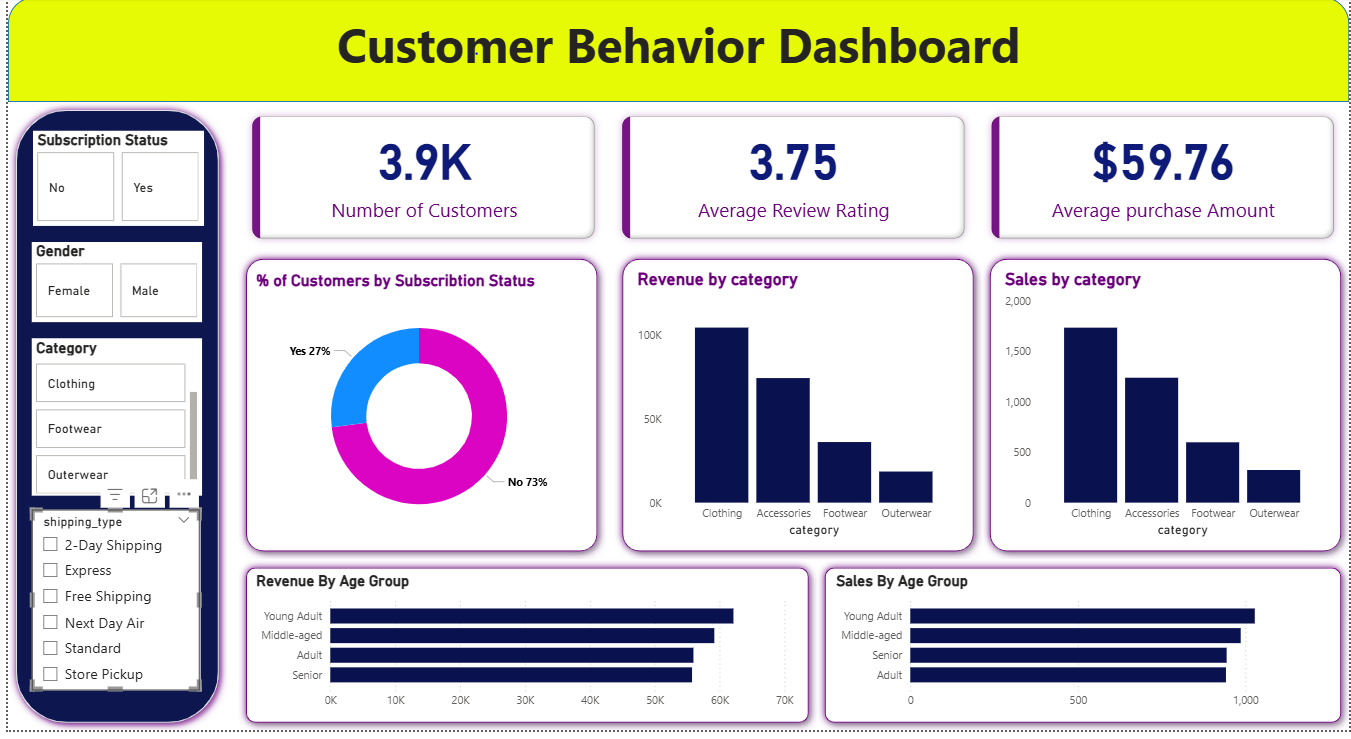

What the dashboard file says about the page in this screenshot:
{"tool":"powerbi","page":{"name":"Page 1","canvas":[1500,820],"ordinal":0},"visuals":[{"type":"cardVisual","fields":{"Data":["customer.Number of Customers","customer.Average Review Rating","customer.Average purchase Amount"]},"box":[257.1,117.4,1242.3,169.1],"z":0},{"type":"shape","box":[0,0,1499.4,117.4],"z":1000},{"type":"textbox","box":[0,11.2,1499.4,106.2],"z":2000},{"type":"shape","box":[257.1,283.7,410.8,345.2],"z":3000},{"type":"donutChart","title":"% of Customers by Subscribtion Status","fields":{"Category":["customer.subscription_status"],"Y":["CountNonNull(customer.customer_id)"]},"box":[272.5,306,374.5,304.6],"z":4000},{"type":"shape","box":[677.7,283.7,410.8,345.2],"z":5000},{"type":"shape","box":[1088.6,283.7,410.8,345.2],"z":6000},{"type":"clusteredColumnChart","title":"Revenue by category","fields":{"Y":["Sum(customer.purchase_amount)"],"Category":["customer.category"]},"box":[698.7,304.6,368.9,304.6],"z":7000},{"type":"clusteredColumnChart","title":"Sales by category","fields":{"Y":["CountNonNull(customer.customer_id)"],"Category":["customer.category"]},"box":[1109.5,304.6,368.9,304.6],"z":8000},{"type":"shape","box":[0,117.4,244.5,702.9],"z":9000},{"type":"advancedSlicerVisual","title":"Subscription Status","fields":{"Values":["customer.subscription_status"]},"box":[27.9,149.5,191.4,106.2],"z":10000},{"type":"advancedSlicerVisual","title":"Gender","fields":{"Values":["customer.gender"]},"box":[26.6,273.9,190,89.4],"z":11000},{"type":"advancedSlicerVisual","title":"Category","fields":{"Values":["customer.category"]},"box":[26.6,381.5,190,176.1],"z":12000},{"type":"slicer","fields":{"Values":["customer.shipping_type"]},"box":[26.6,572.9,188.7,202.6],"z":13000},{"type":"shape","box":[257.1,628.8,647,191.4],"z":14000},{"type":"shape","box":[904.1,628.8,595.3,191.4],"z":15000},{"type":"clusteredBarChart","title":"Revenue By Age Group","fields":{"Y":["Sum(customer.purchase_amount)"],"Category":["customer.age_group"]},"box":[272.5,642.8,610.7,162.1],"z":16000},{"type":"clusteredBarChart","title":"Sales By Age Group","fields":{"Y":["CountNonNull(customer.customer_id)"],"Category":["customer.age_group"]},"box":[920.9,642.8,557.6,162.1],"z":17000}]}

Visuals, with their boxes in screenshot pixels (x1, y1, x2, y2), scaled from the page's 1500x820 canvas onto the 1351x739 screenshot:
cardVisual - customer.Number of Customers x customer.Average Review Rating: rect(232, 106, 1350, 258)
shape: rect(0, 0, 1350, 106)
textbox: rect(0, 10, 1350, 106)
shape: rect(232, 256, 602, 567)
"% of Customers by Subscribtion Status" donutChart: rect(245, 276, 583, 550)
shape: rect(610, 256, 980, 567)
shape: rect(980, 256, 1350, 567)
"Revenue by category" clusteredColumnChart: rect(629, 275, 962, 549)
"Sales by category" clusteredColumnChart: rect(999, 275, 1332, 549)
shape: rect(0, 106, 220, 738)
"Subscription Status" advancedSlicerVisual: rect(25, 135, 198, 230)
"Gender" advancedSlicerVisual: rect(24, 247, 195, 327)
"Category" advancedSlicerVisual: rect(24, 344, 195, 503)
slicer - customer.shipping_type: rect(24, 516, 194, 699)
shape: rect(232, 567, 814, 738)
shape: rect(814, 567, 1350, 738)
"Revenue By Age Group" clusteredBarChart: rect(245, 579, 795, 725)
"Sales By Age Group" clusteredBarChart: rect(829, 579, 1332, 725)
